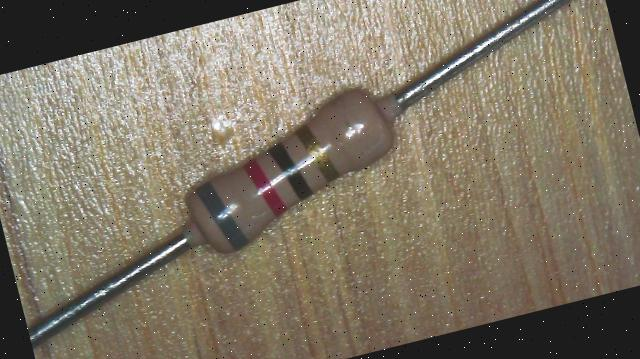black: (266, 137, 312, 205)
gold: (294, 119, 340, 187)
grey: (193, 174, 250, 255)
red: (242, 154, 287, 222)
resistor: (154, 60, 428, 284)
